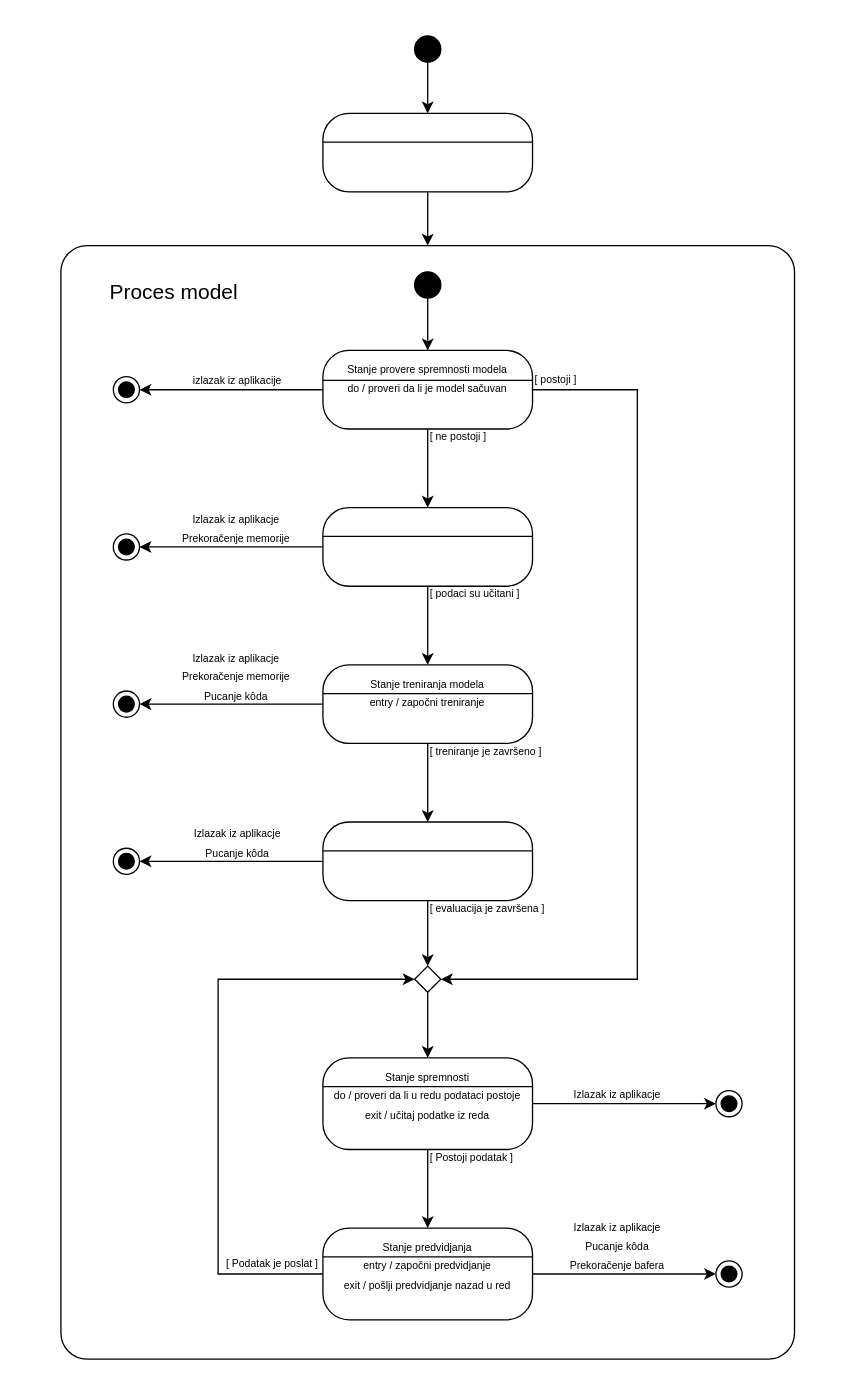
The diagram is 855 pixels wide and 1394 high, and some of its shapes have lost their labels. The shapes that lost their labels are listed below. From the top down, each one's box as (x1, y1, x2, y2) in pixels, then its label:
(322, 112, 533, 192): Stanje kreiranje procesa model exit / pokretanje procesa
(322, 506, 533, 586): Stanje učitavanja podataka entry / učitaj podatke za treniranje
(322, 821, 533, 901): Stanje evaluacije modela entry / započni evaluaciju
